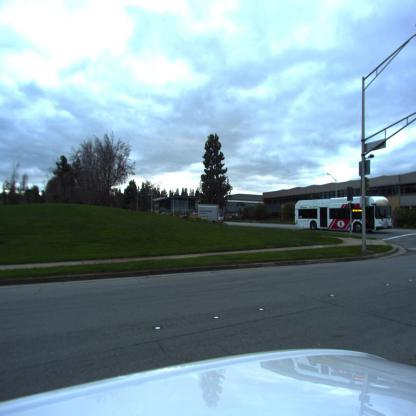bus: (295, 196, 393, 232)
